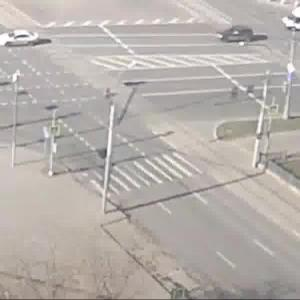car: (1, 30, 46, 48), (219, 27, 260, 46)
